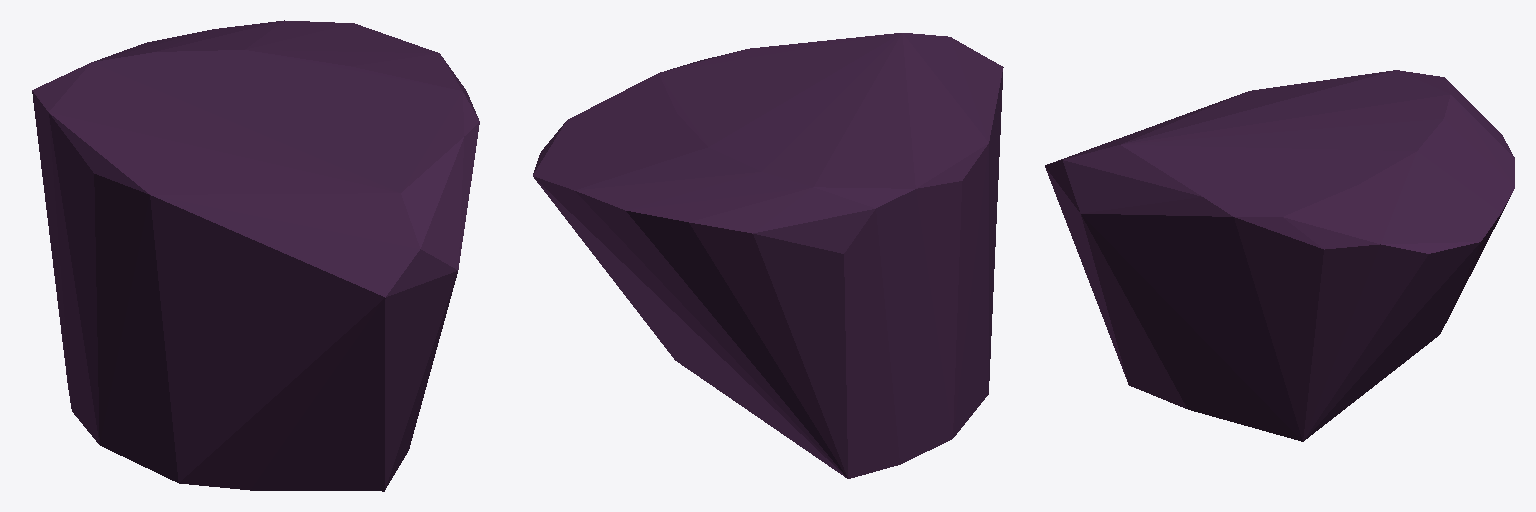
The robot description file, URDF, robot "obj_02":
<?xml version="1.0"?>
<robot name="obj_02">
  <!-- purple mug: ceramic, 232 g. Written by Darius 0.2.0. Link frame: +z up, origin at the capture-time bounding-box center; place it at the pose in world.json -->
  <mujoco>
    <compiler meshdir="../meshes/" discardvisual="true" balanceinertia="true" fusestatic="false" />
  </mujoco>
  <link name="obj_02">
    <inertial>
      <origin xyz="-0.00621 0.00475 0.00818" rpy="0 0 0" />
      <mass value="0.2316" />
      <inertia ixx="0.00039299" ixy="-1.59859e-05" ixz="-4.16999e-05" iyy="0.000322845" iyz="-2.47762e-05" izz="0.000455754" />
    </inertial>
    <visual>
      <geometry>
        <mesh filename="../meshes/obj_02_visual.obj" />
      </geometry>
      <material name="obj_02_color">
        <color rgba="0.314 0.196 0.329 1" />
      </material>
    </visual>
    <collision name="obj_02_part0">
      <geometry>
        <mesh filename="../meshes/obj_02_part0.obj" />
      </geometry>
    </collision>
    <collision name="obj_02_part1">
      <geometry>
        <mesh filename="../meshes/obj_02_part1.obj" />
      </geometry>
    </collision>
    <collision name="obj_02_part2">
      <geometry>
        <mesh filename="../meshes/obj_02_part2.obj" />
      </geometry>
    </collision>
    <collision name="obj_02_part3">
      <geometry>
        <mesh filename="../meshes/obj_02_part3.obj" />
      </geometry>
    </collision>
    <collision name="obj_02_part4">
      <geometry>
        <mesh filename="../meshes/obj_02_part4.obj" />
      </geometry>
    </collision>
    <collision name="obj_02_part5">
      <geometry>
        <mesh filename="../meshes/obj_02_part5.obj" />
      </geometry>
    </collision>
    <collision name="obj_02_part6">
      <geometry>
        <mesh filename="../meshes/obj_02_part6.obj" />
      </geometry>
    </collision>
    <collision name="obj_02_part7">
      <geometry>
        <mesh filename="../meshes/obj_02_part7.obj" />
      </geometry>
    </collision>
    <contact>
      <lateral_friction value="0.5" />
      <restitution value="0.1" />
    </contact>
  </link>
</robot>

--- What the picture shows (computed from the rendered views, not written in the file) ---
Views: 3 orthographic renders of the robot side by side, from view 1: azimuth 30°, elevation 25°; view 2: azimuth 150°, elevation 25°; view 3: azimuth 270°, elevation 25°.
Robot: obj_02 — 1 links, 0 joints (none); root link obj_02; default pose: every joint at zero.
Links seen in each view (by area): view 1: obj_02; view 2: obj_02; view 3: obj_02.
Link boxes in pixels (left/top/right/bottom): obj_02: left=32, top=20, right=479, bottom=491; obj_02: left=533, top=33, right=1003, bottom=478; obj_02: left=1045, top=70, right=1514, bottom=441.
Size in the robot's own frame: 0.0921 by 0.1197 by 0.0708 metres.
Meshes: 1 distinct files referenced, 1 mesh visuals loaded (1 OBJ).
